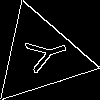Y: (15, 31, 71, 77)
